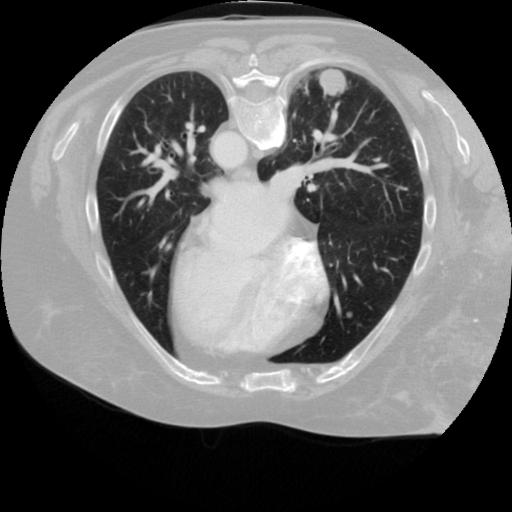nodule: (315, 65, 351, 101)
